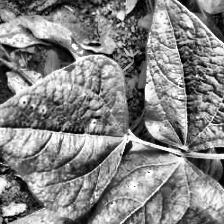Bean Rust: (0, 55, 128, 212), (51, 155, 224, 224), (144, 0, 224, 144)
